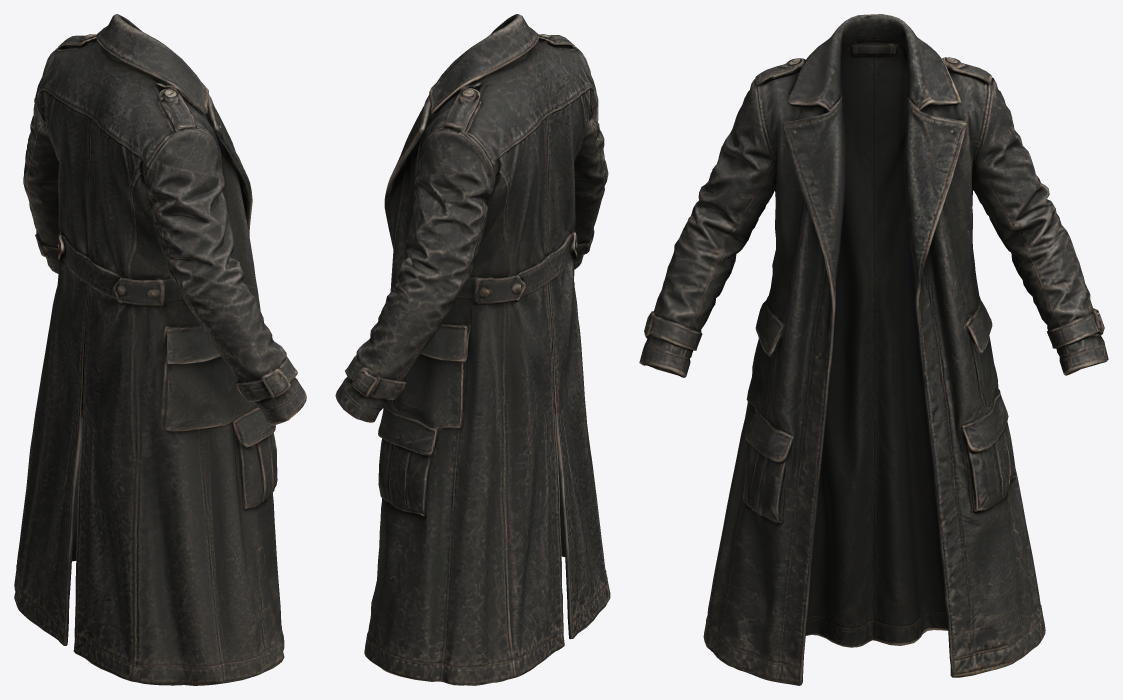
File: sol_mod_coat_src.glb
3 views of the same model, side by side, from view 1: azimuth 30°, elevation 25°; view 2: azimuth 150°, elevation 25°; view 3: azimuth 270°, elevation 25° (orthographic).
Visible parts, largest first — view 1: tripo_node_35b4b241-49b0-48e6-9a07-e7ec9d577eda; view 2: tripo_node_35b4b241-49b0-48e6-9a07-e7ec9d577eda; view 3: tripo_node_35b4b241-49b0-48e6-9a07-e7ec9d577eda.
Boxes of the visible parts, x1,y1,x2,y2 form: tripo_node_35b4b241-49b0-48e6-9a07-e7ec9d577eda: (14, 14, 306, 685); tripo_node_35b4b241-49b0-48e6-9a07-e7ec9d577eda: (335, 14, 610, 685); tripo_node_35b4b241-49b0-48e6-9a07-e7ec9d577eda: (639, 14, 1108, 685).
Size of the model in its own units: 0.2995 by 1 by 0.6904.
1 material, 1 textured.
